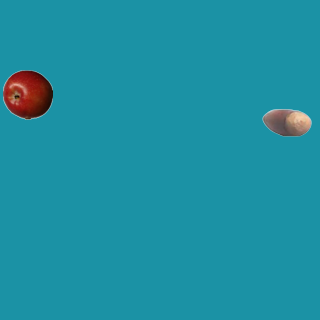Apple Braeburn: (2, 69, 52, 119)
Hazelnut: (261, 97, 311, 147)
